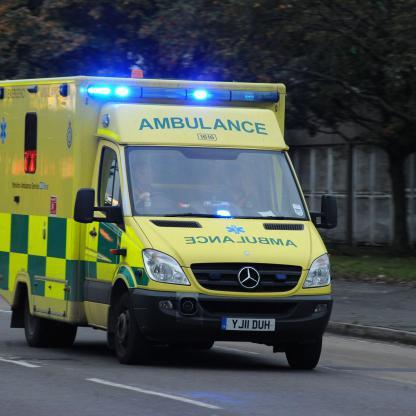Ambulance - v1 Ambulance last generate: (0, 71, 342, 371)
